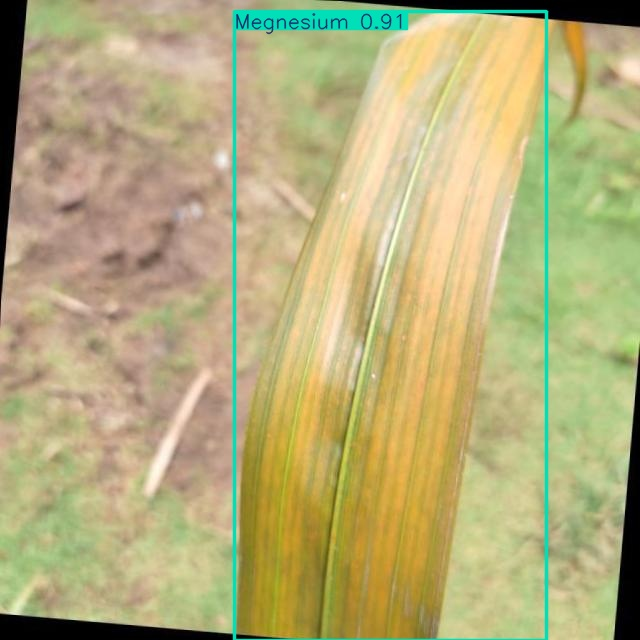Megnesium: (235, 11, 546, 640)
